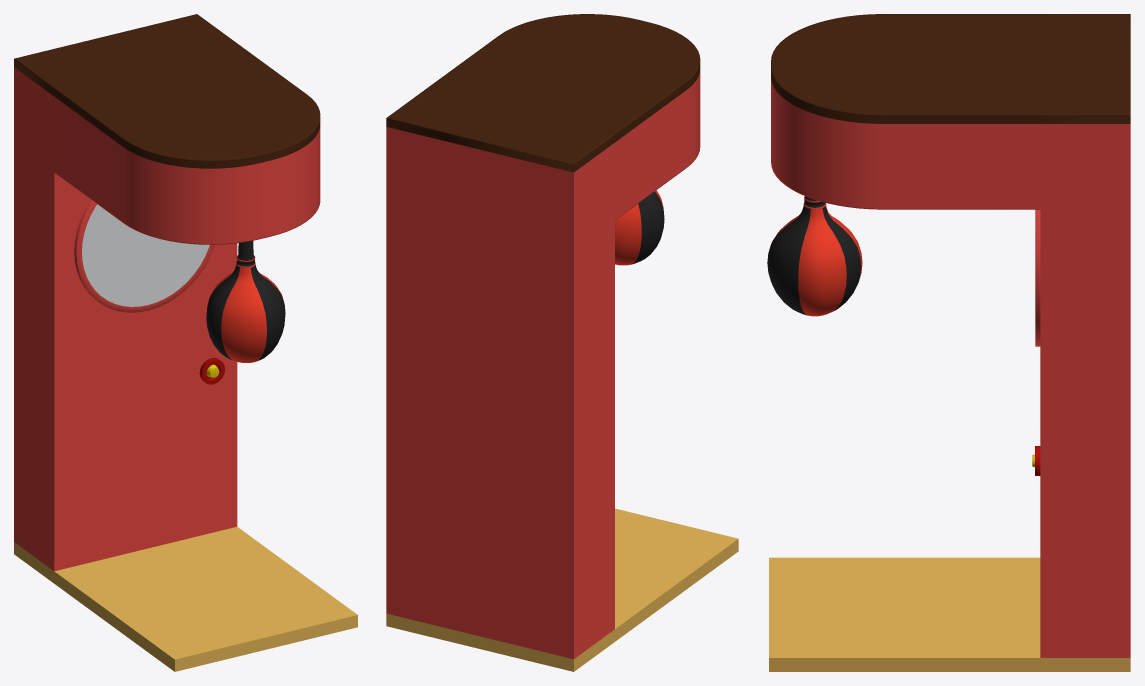
File: Boxing_Machine.fbx
The picture shows the model from 3 angles, left to right: view 1: azimuth 30°, elevation 25°; view 2: azimuth 150°, elevation 25°; view 3: azimuth 270°, elevation 25°; orthographic projection. The views are drawn at different scales.
Parts seen in each view (by area): view 1: Circle.001, Cube.001; view 2: Circle.001, Cube.001; view 3: Circle.001, Cube.001.
Boxes of the visible parts, x1=… form: Circle.001: x1=14, y1=14, x2=357, y2=671; Cube.001: x1=206, y1=241, x2=285, y2=362; Circle.001: x1=386, y1=14, x2=738, y2=671; Cube.001: x1=615, y1=190, x2=664, y2=265; Circle.001: x1=769, y1=14, x2=1130, y2=671; Cube.001: x1=767, y1=196, x2=862, y2=316.
Size of the model in its own units: 707 by 1828 by 1079.
